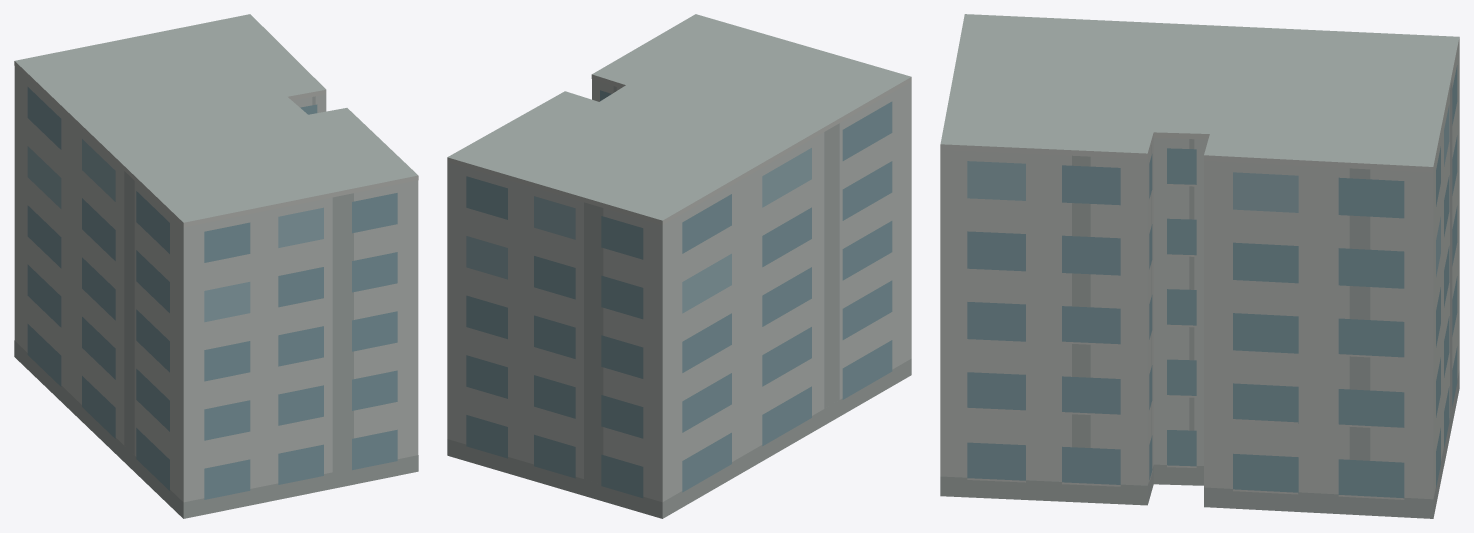
File: survey-upis-32808454.glb
The picture shows the model from 3 angles, left to right: view 1: azimuth 30°, elevation 25°; view 2: azimuth 150°, elevation 25°; view 3: azimuth 270°, elevation 25°; orthographic projection. The views are drawn at different scales.
Parts seen in each view (by area): view 1: survey-upis-32808454.tmp; view 2: survey-upis-32808454.tmp; view 3: survey-upis-32808454.tmp.
Part boxes in pixels (bbox=[...]): survey-upis-32808454.tmp: bbox=[14, 14, 418, 518]; survey-upis-32808454.tmp: bbox=[447, 14, 911, 518]; survey-upis-32808454.tmp: bbox=[940, 14, 1459, 518].
Bounding box in the file's own units: 14.23 × 15.25 × 20.4.
